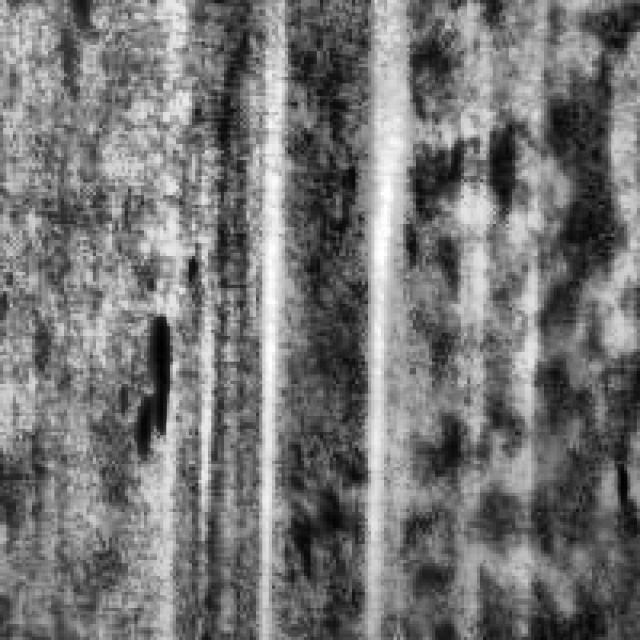Inclusion: (355, 25, 410, 618), (250, 154, 294, 636)
Patches: (131, 307, 176, 451)
